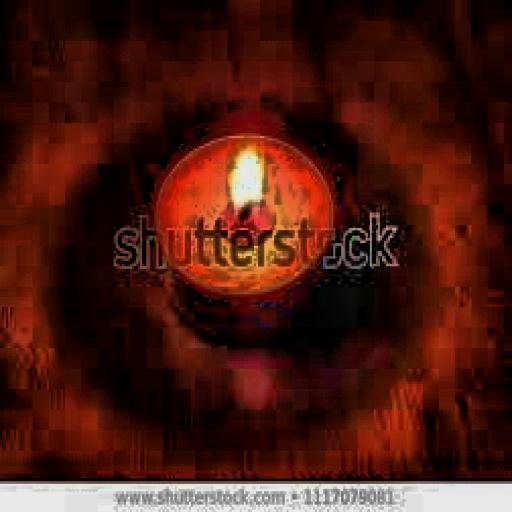fire: (218, 146, 264, 215)
